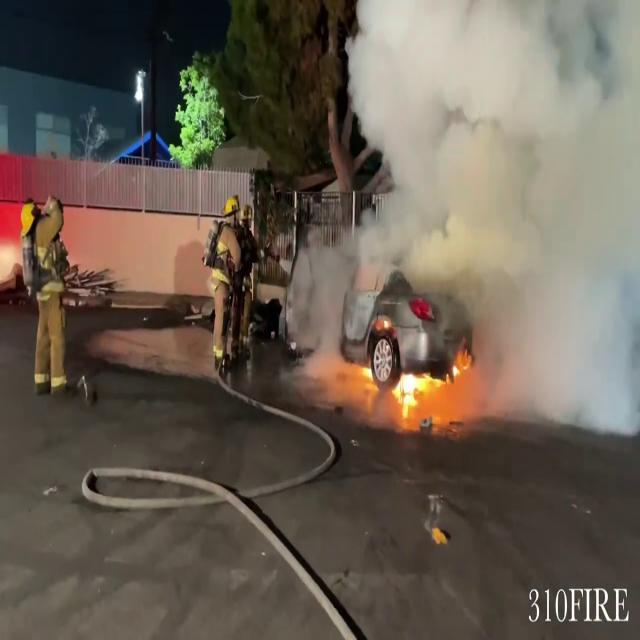Fire: (390, 354, 474, 426)
Smoke: (337, 0, 640, 438)
